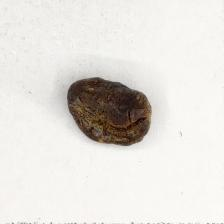NG: (68, 78, 150, 146)
